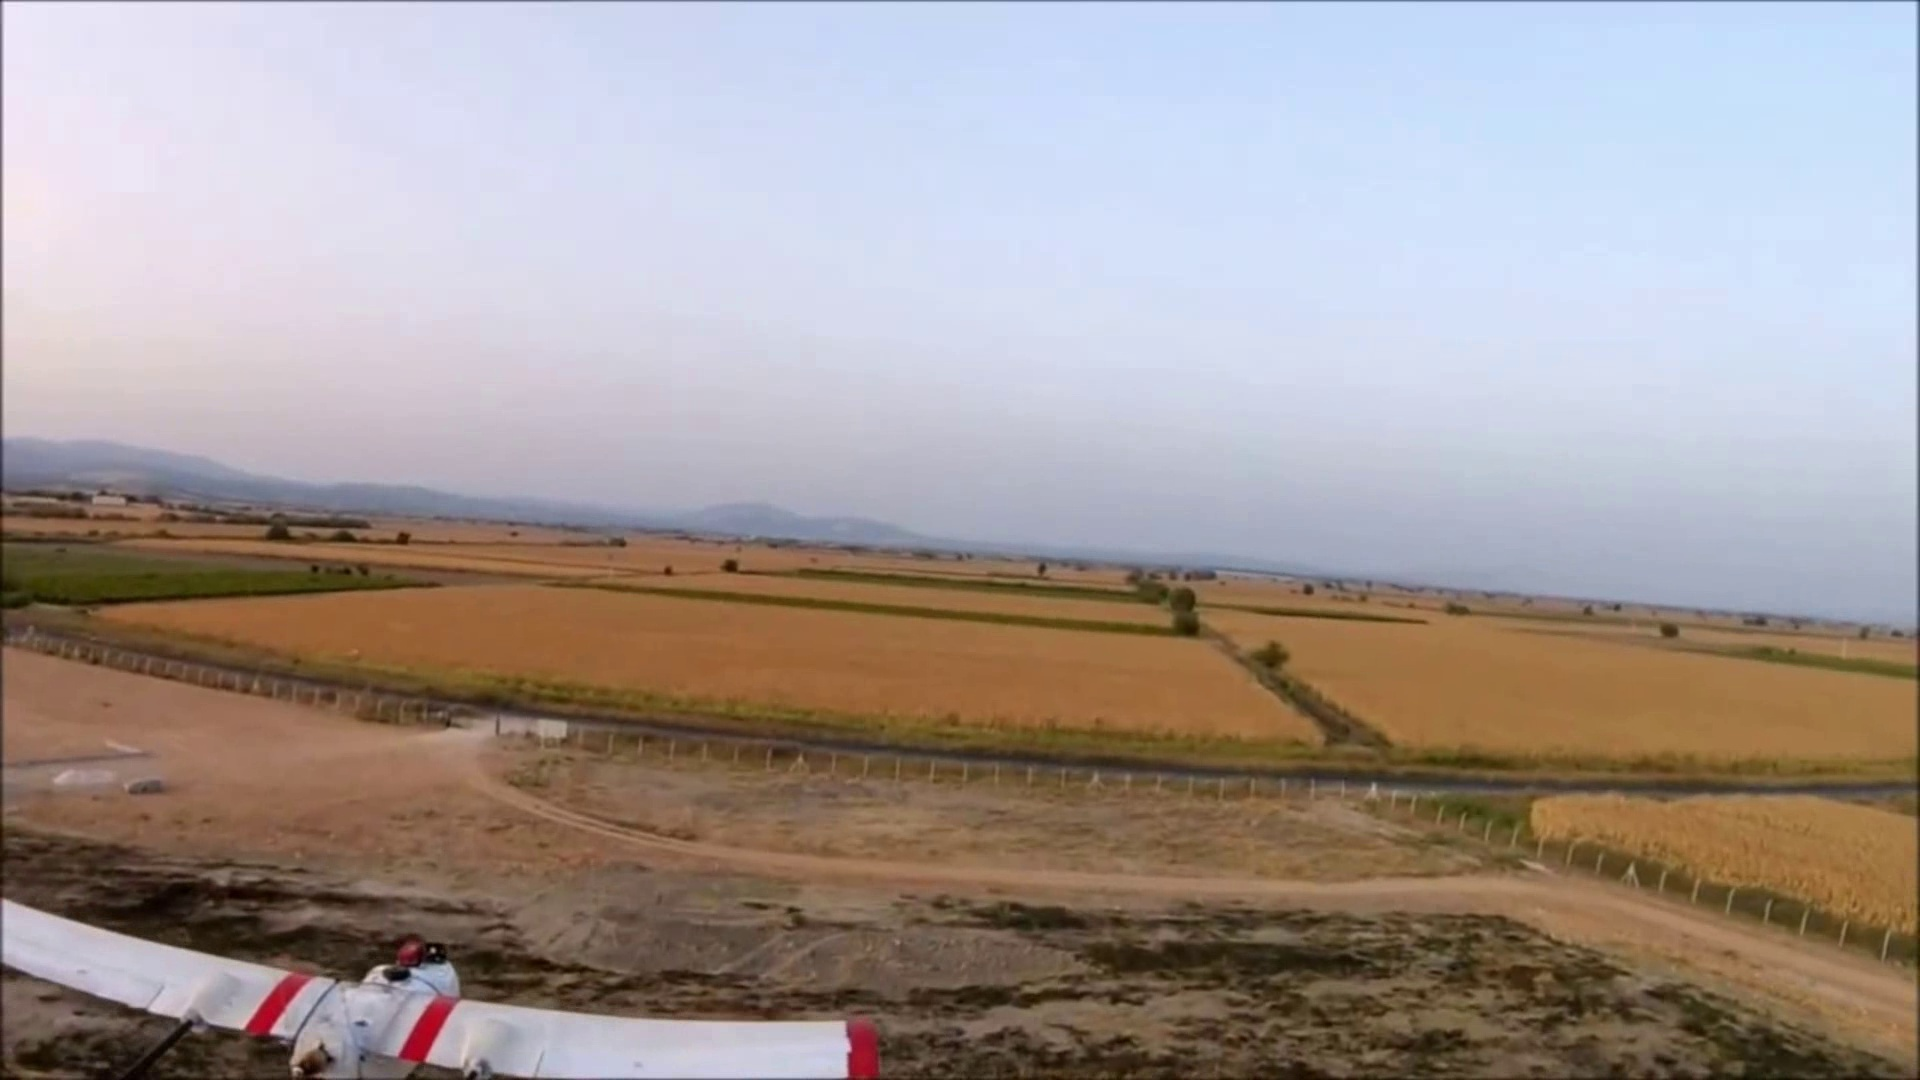airplane: (3, 895, 891, 1069)
